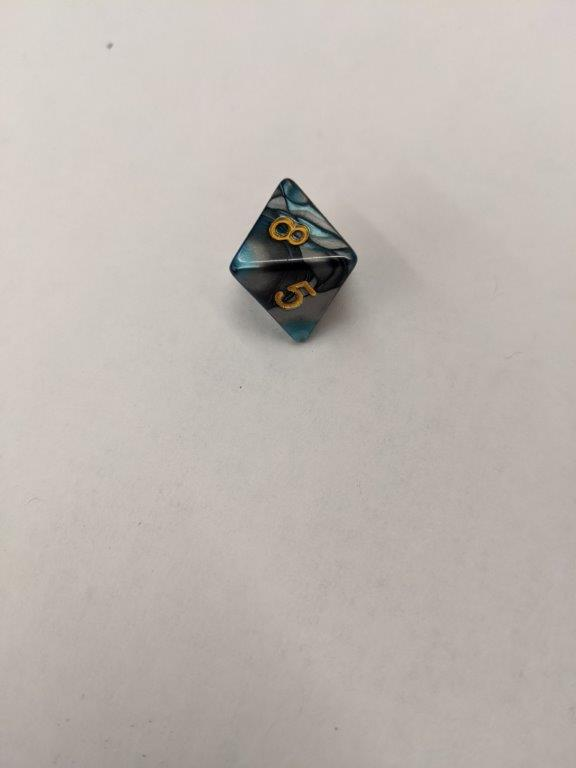d8-8: (228, 174, 362, 344)
